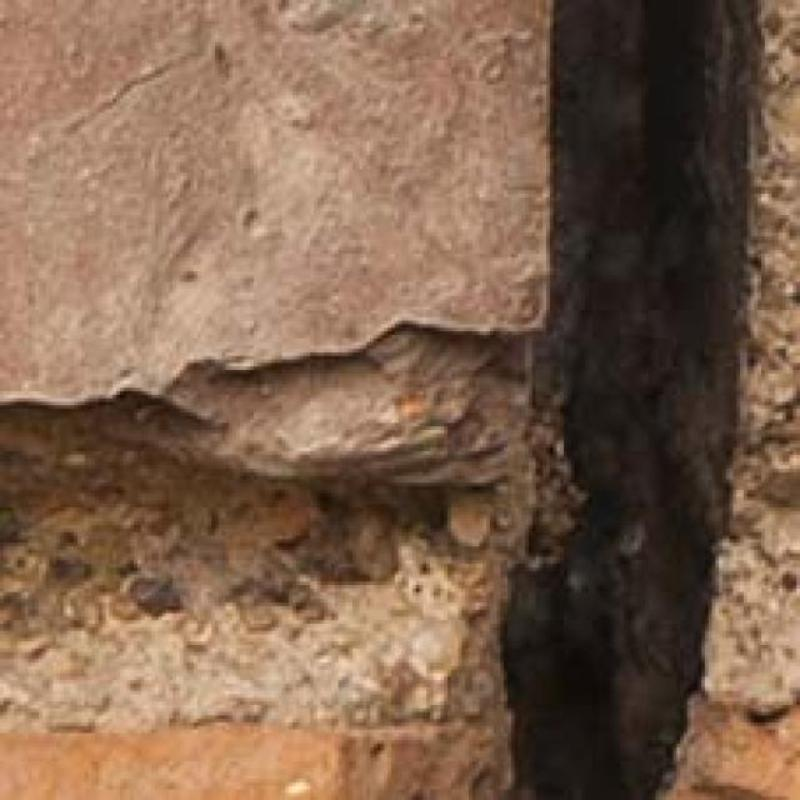crack: (506, 0, 753, 800)
